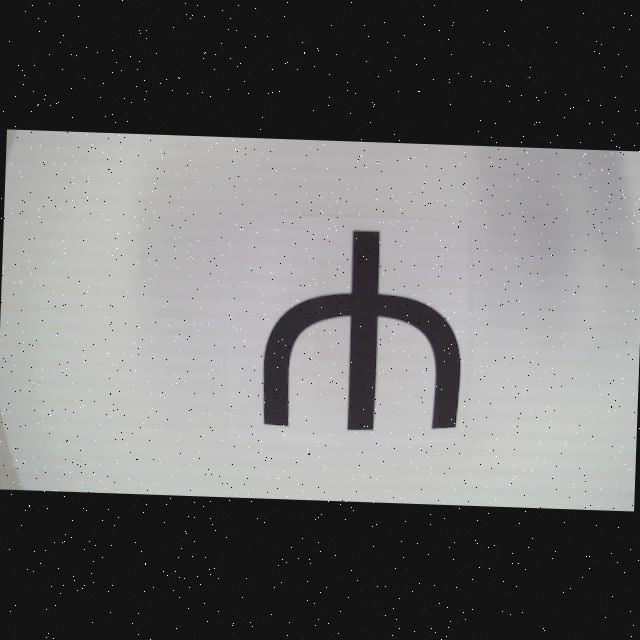PSI: (260, 226, 465, 434)
